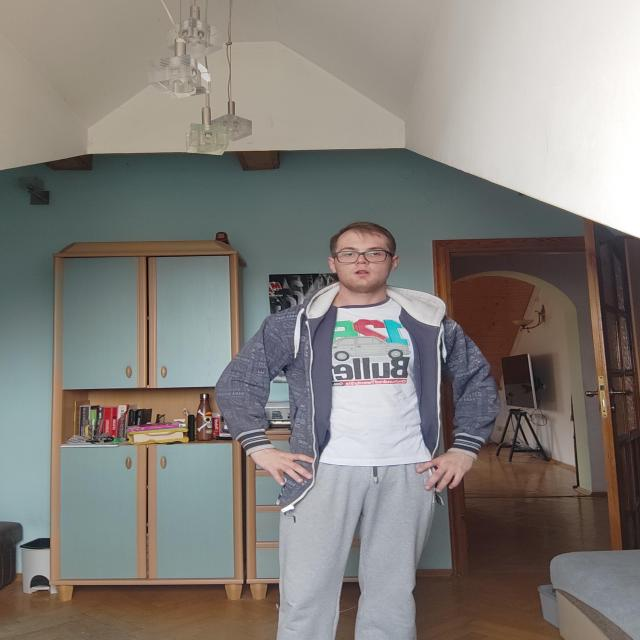Tshirt: (264, 294, 455, 468)
pants: (278, 456, 438, 640)
sweater: (215, 281, 498, 514)
